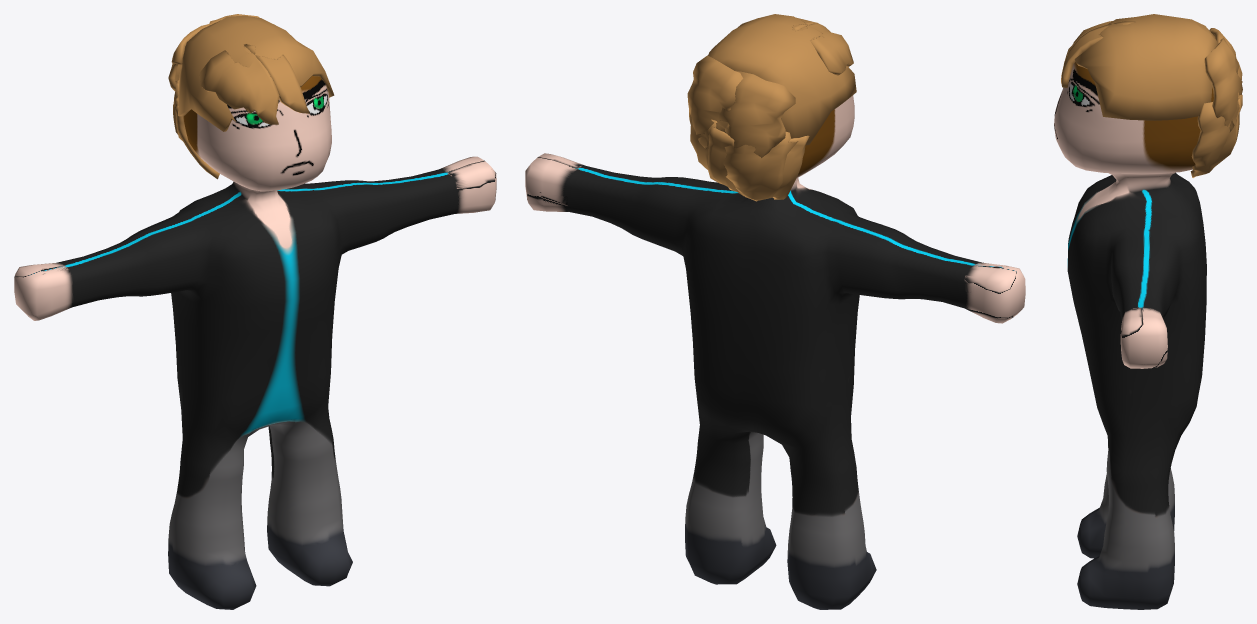
File: jackS.fbx
3 renders of one model, left to right at view 1: azimuth 30°, elevation 25°; view 2: azimuth 150°, elevation 25°; view 3: azimuth 270°, elevation 25°, orthographic. The views are drawn at different scales.
Parts seen in each view (by area): view 1: Cube, Plane.006; view 2: Cube, Plane.006; view 3: Cube, Plane.006.
Boxes of the visible parts, x1=… form: Cube: x1=14, y1=76, x2=496, y2=609; Plane.006: x1=168, y1=14, x2=334, y2=179; Cube: x1=525, y1=95, x2=1025, y2=609; Plane.006: x1=687, y1=14, x2=856, y2=201; Cube: x1=1054, y1=62, x2=1213, y2=609; Plane.006: x1=1061, y1=14, x2=1242, y2=177.
Bounding box in the file's own units: 471 × 523 × 162.
